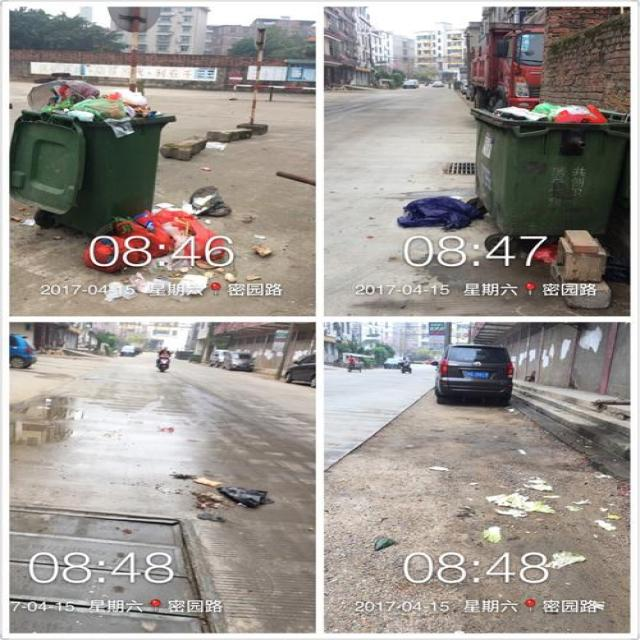garbage: (83, 187, 269, 301), (484, 477, 617, 568), (531, 230, 613, 307), (173, 472, 269, 521), (398, 194, 483, 230)
overflow: (13, 81, 174, 235), (468, 102, 630, 239)
